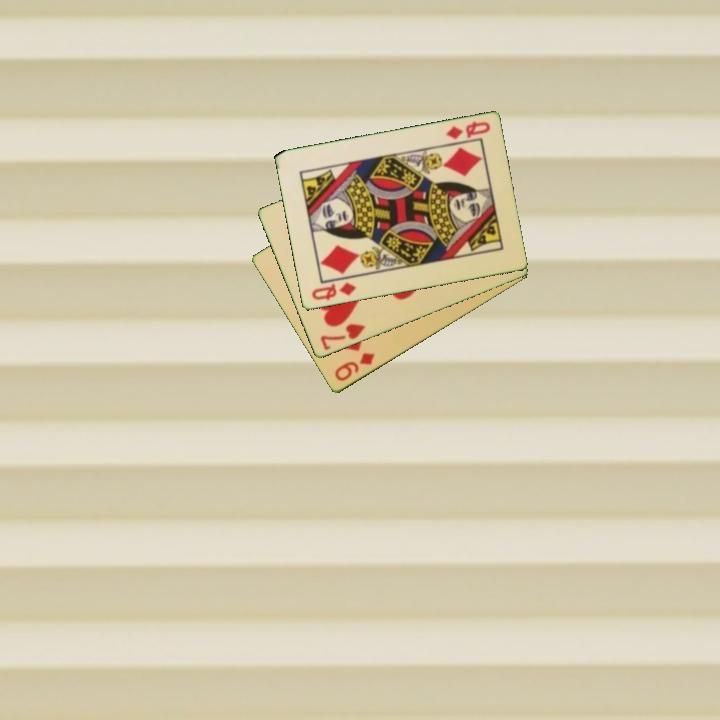7h: (316, 320, 368, 353)
9d: (331, 349, 378, 385)
Qd: (308, 279, 359, 304), (442, 118, 493, 143)
